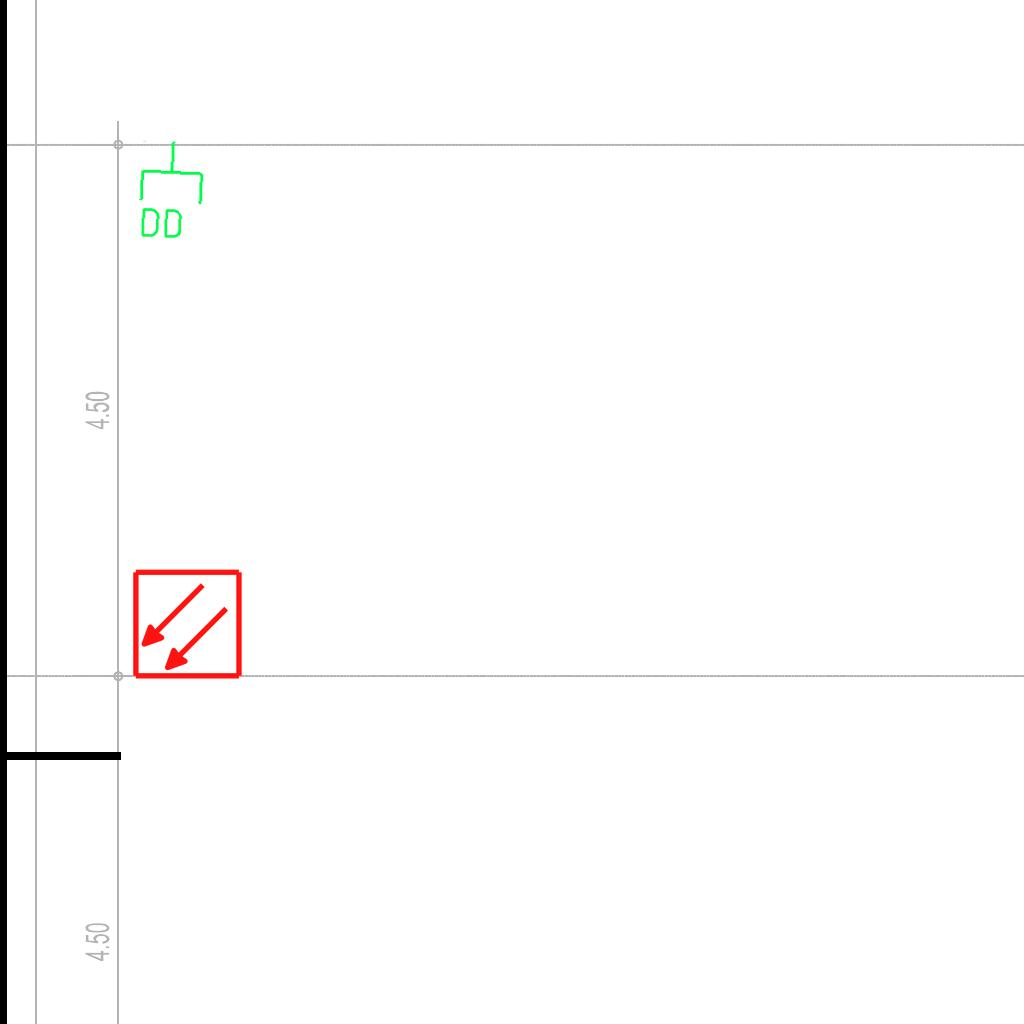Datenanschluss_zweifach: (133, 137, 208, 244)
RMO_Rauchmelder_optischer: (131, 568, 244, 681)
